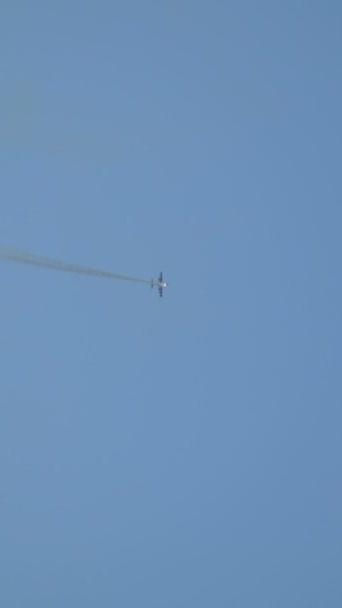Plane: (143, 263, 174, 310)
